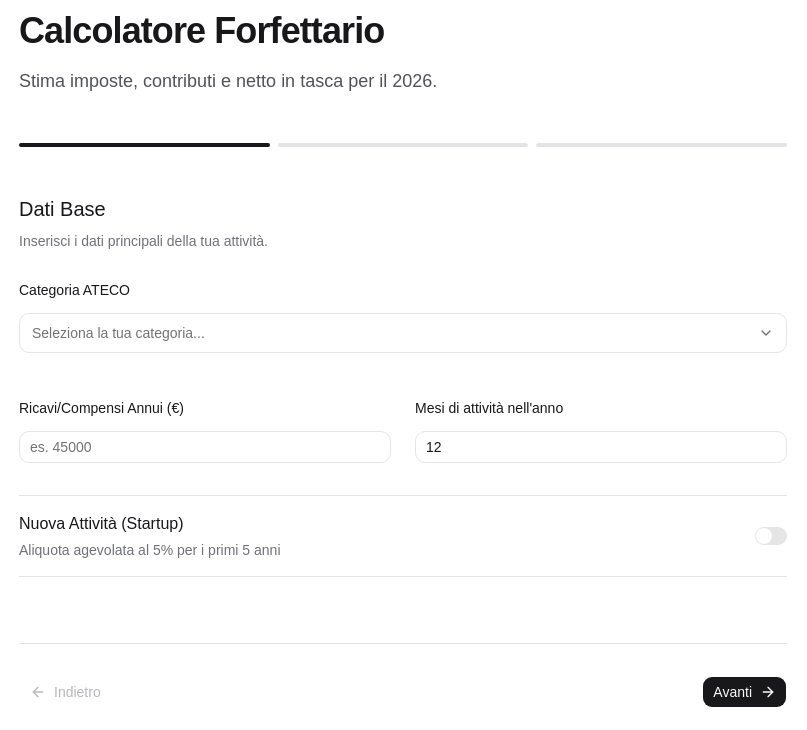
Calculator page › exposes an accessible wizard progress and invalid field state
This screenshot has width=807, height=730.
Click the button "Avanti" at (745, 692), box 702,676 -> 787,708
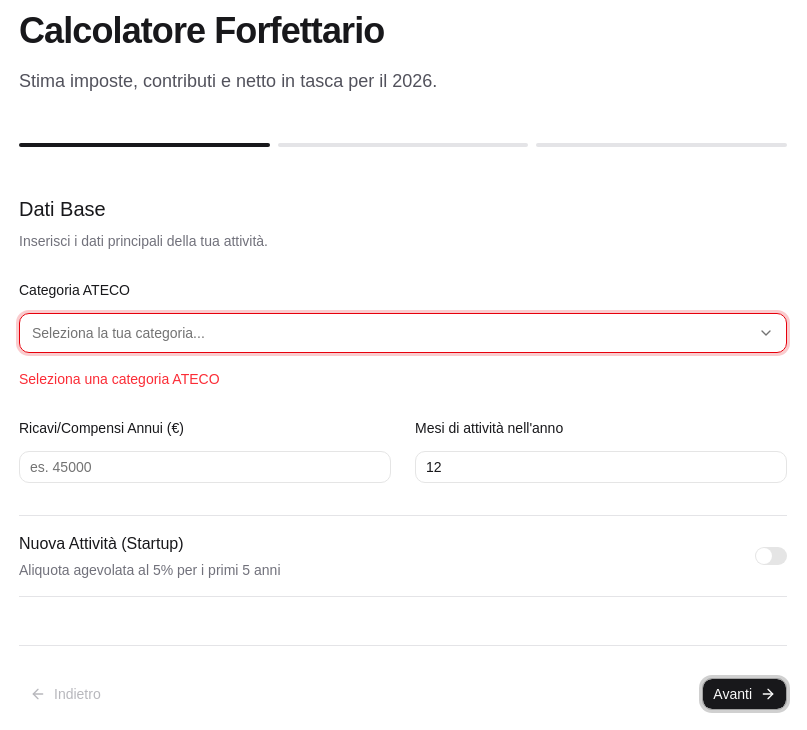
Check: the text "Seleziona una categoria ATECO" is shown, box 19,371 -> 220,387
